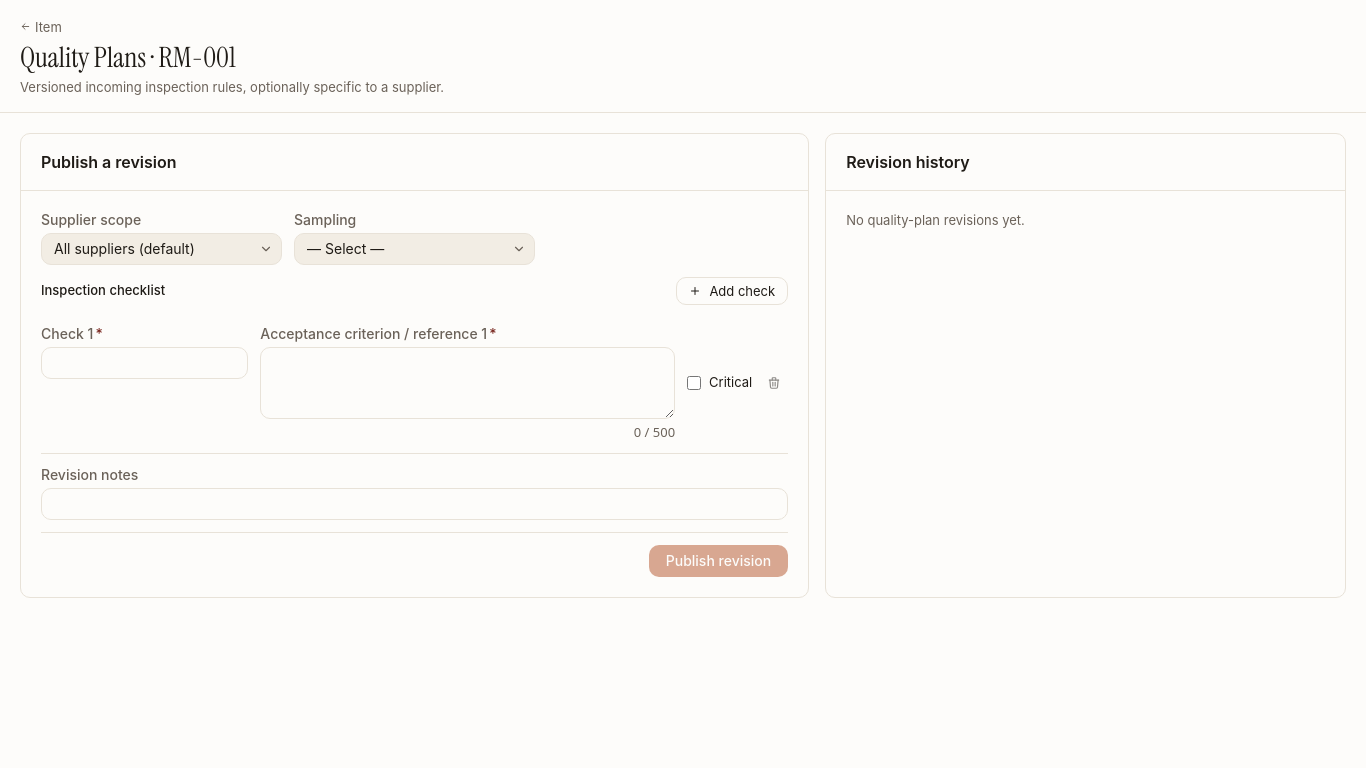
Scenario: incoming checklist authoring › requires written criteria and retains them after a server rejection
This screenshot has width=1366, height=768.
Select "Full inspection" in the dropdown labelled "Sampling": (415, 248) top-left (295, 234), bottom-right (534, 264)
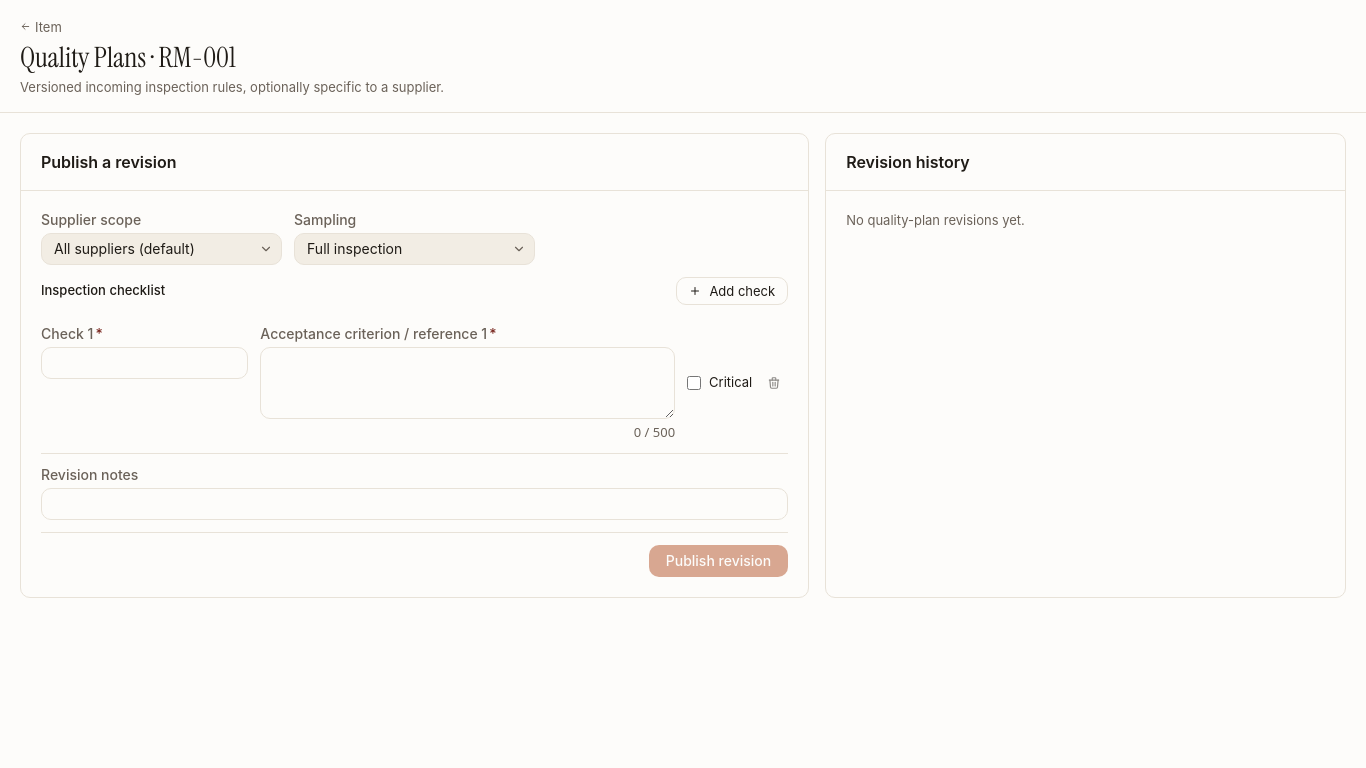
In the field labelled "Check 1": (145, 362) top-left (42, 348), bottom-right (247, 378), type "Condition"
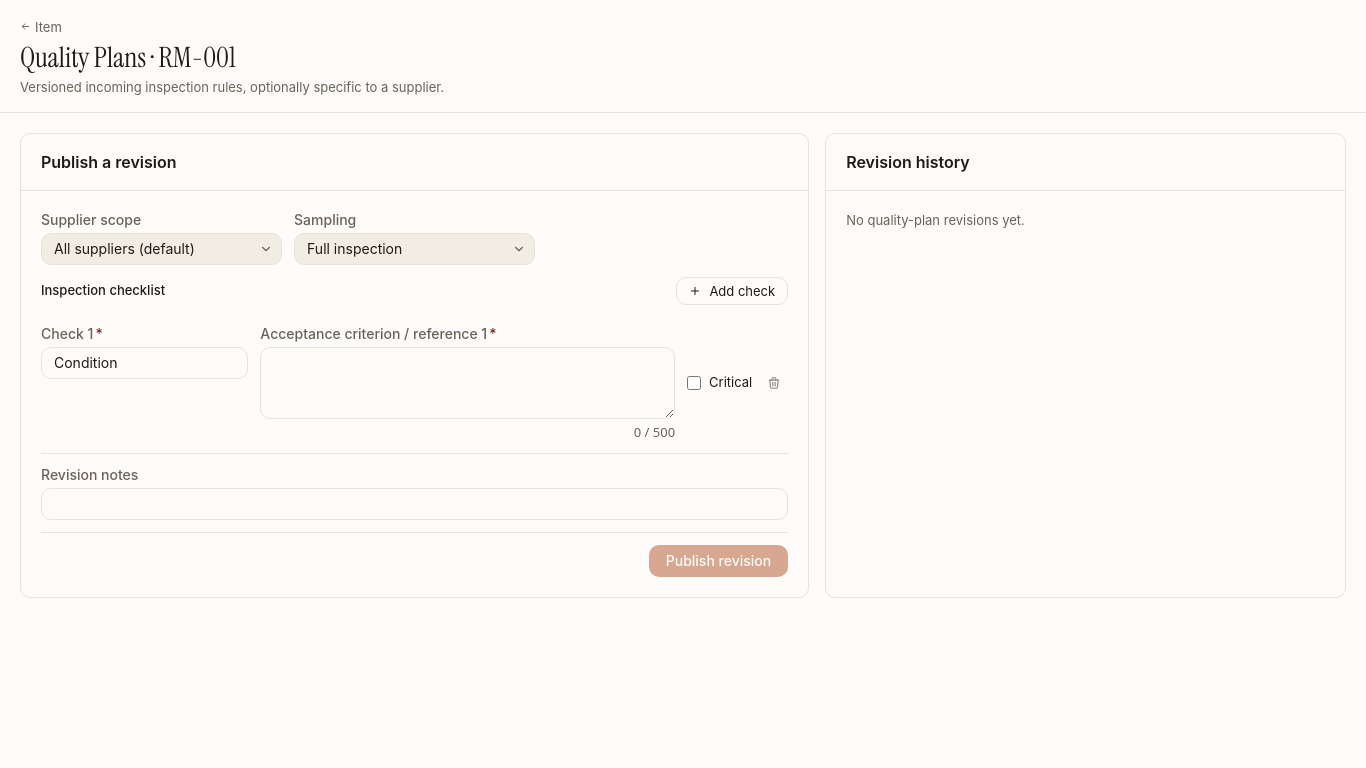
Expected: the button "Publish revision" is disabled, top-left (649, 544), bottom-right (788, 576)
In the text box labelled "Acceptance criterion / reference 1": (468, 382) top-left (260, 346), bottom-right (675, 418), type "No contamination."
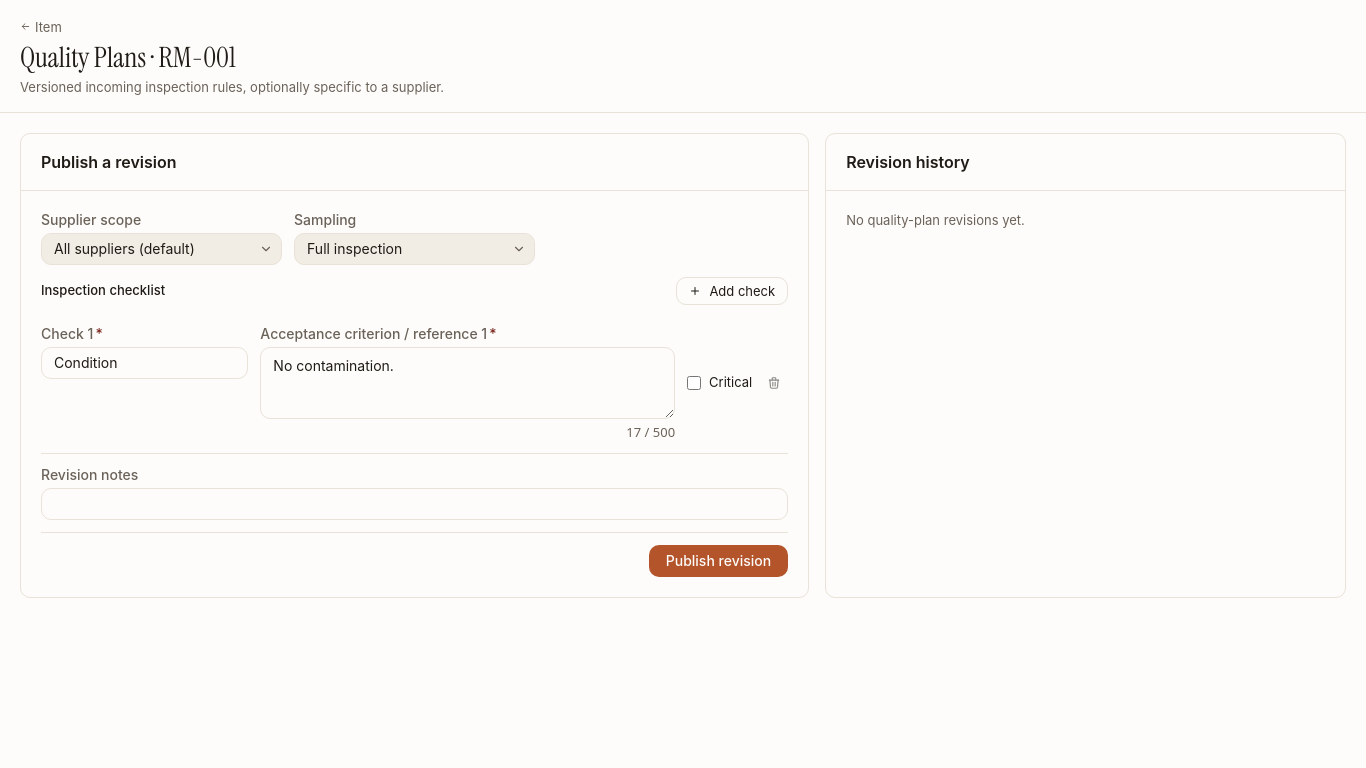
Click the button "Publish revision": (718, 560) top-left (649, 544), bottom-right (788, 576)
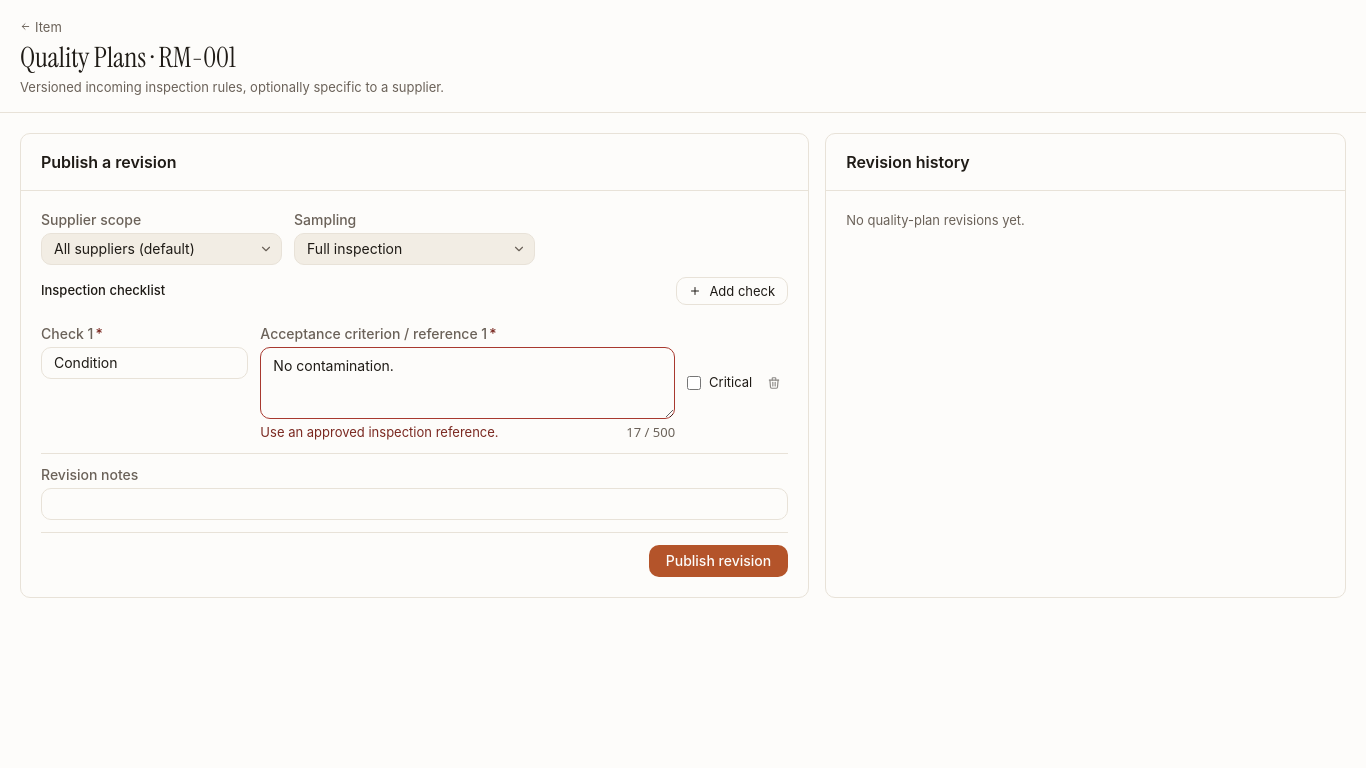
Result: the text "Use an approved inspection reference." is shown at top-left (260, 422), bottom-right (499, 440)
